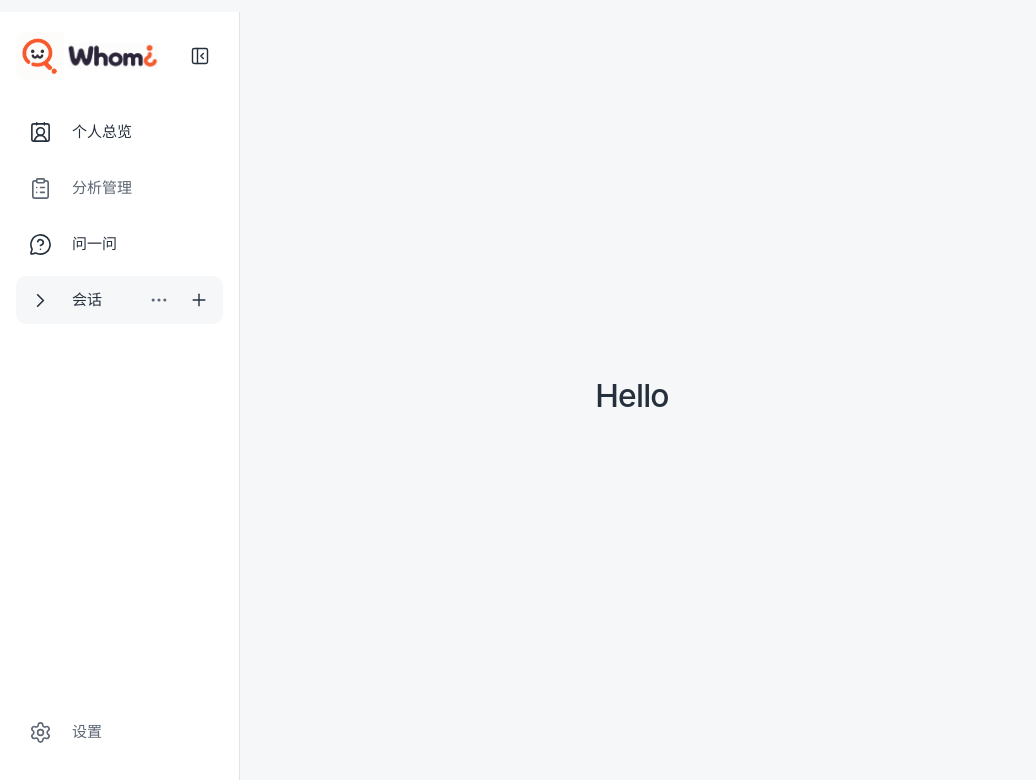
Scenario: 总览导航与原文范围 › 独立问一问菜单进入诚实空状态，总览内没有问一问入口
This screenshot has width=1036, height=780.
Click the button named "进入个人总览": click(632, 396) [240, 12, 1024, 779]
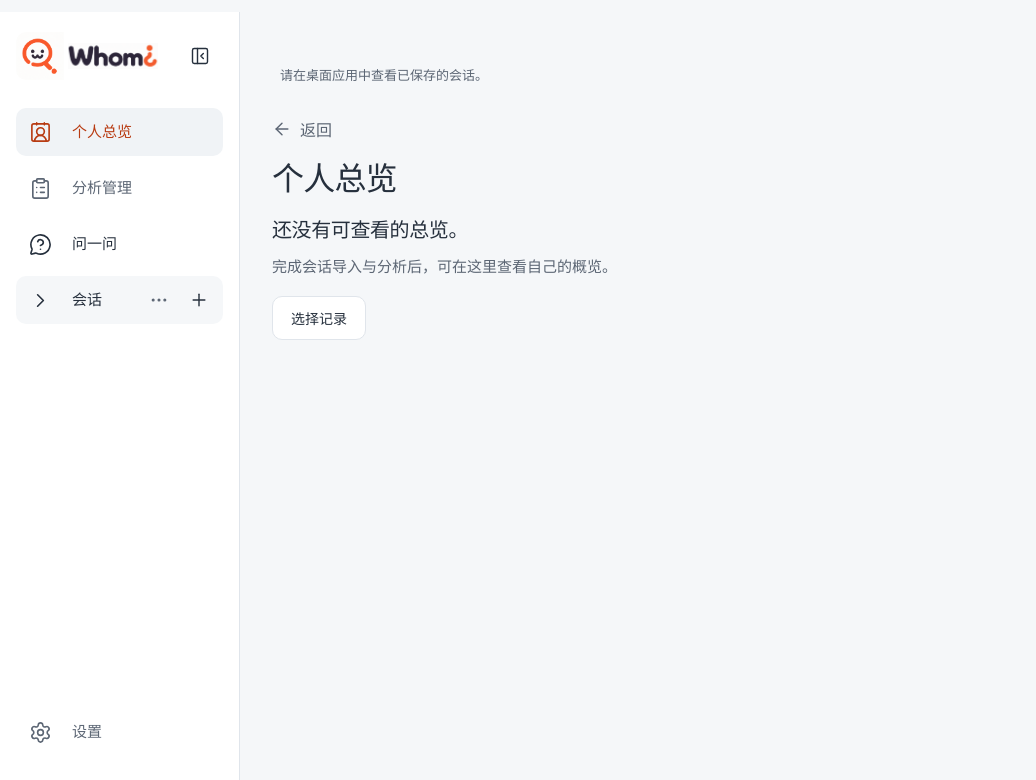
Click the button "问一问": click(120, 244) [16, 220, 223, 268]
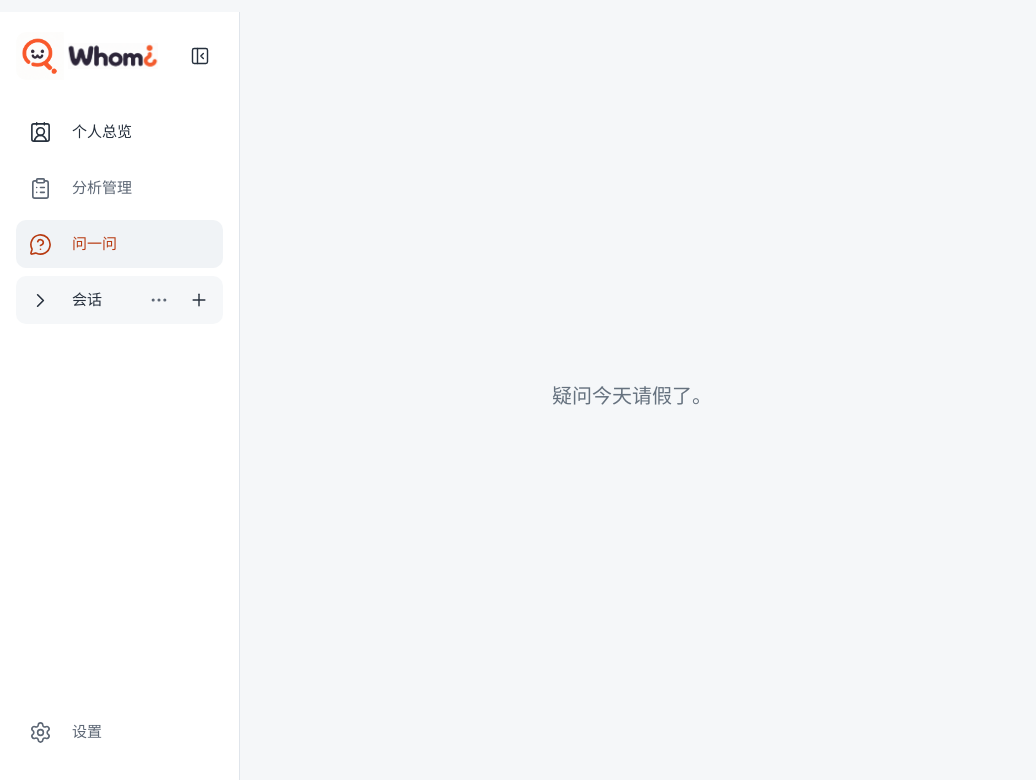
expect the text "疑问今天请假了。" is shown: met, box [552, 378, 712, 414]
